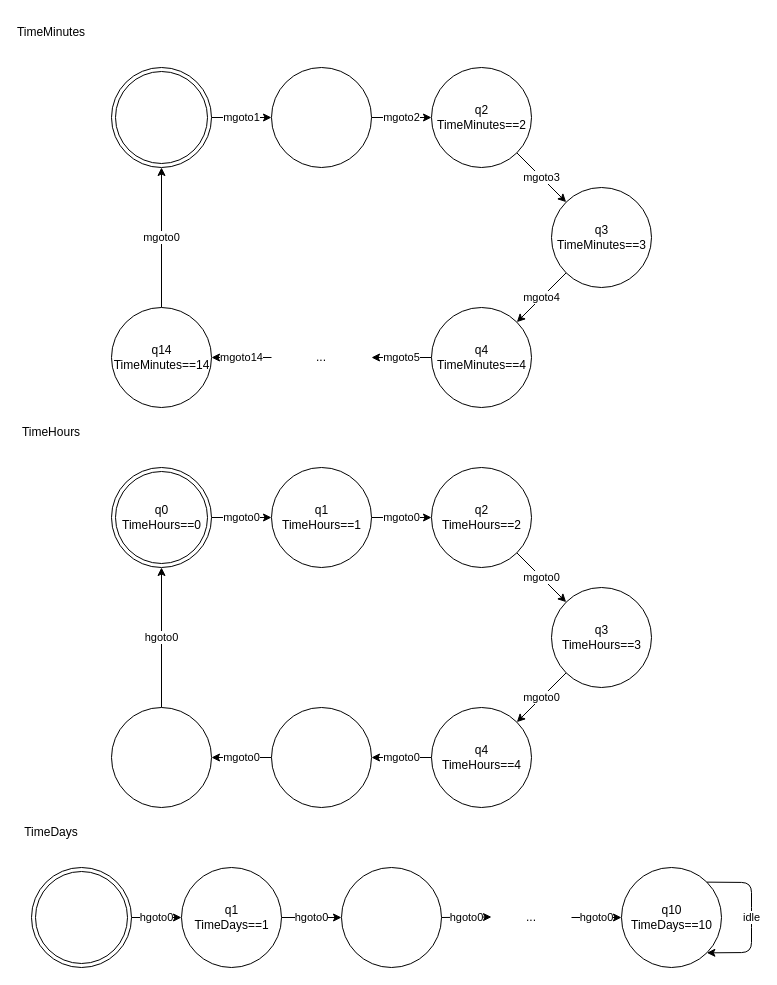
Image size: 777x985. Some labels were removed from this diagram. The shapes that lost their labels are listed below. From the top down, each one's centre as x and y in pixels, then its label:
At pixel 161 117: "q0 TimeMinutes==0".
At pixel 321 117: "q1 TimeMinutes==1".
At pixel 161 757: "q6 TimeHours==0".
At pixel 321 757: "q5 TimeHours==5".
At pixel 81 917: "q0 TimeDays==0".
At pixel 391 917: "q2 TimeDays==2".
